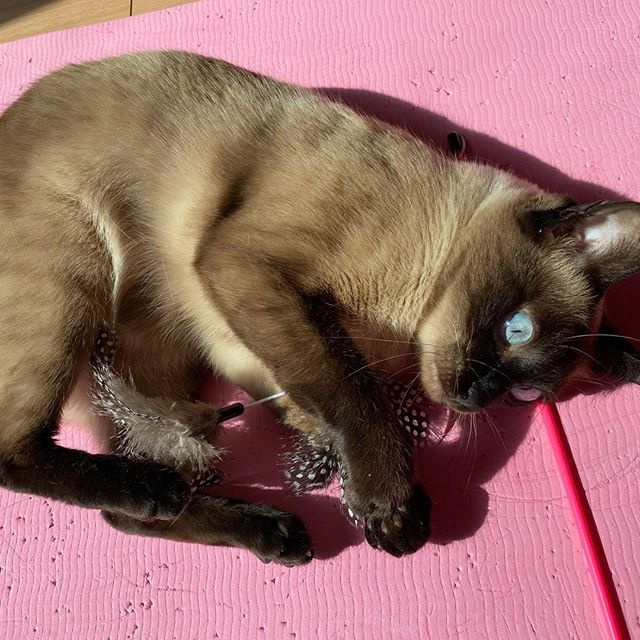cat: (412, 190, 640, 430)
